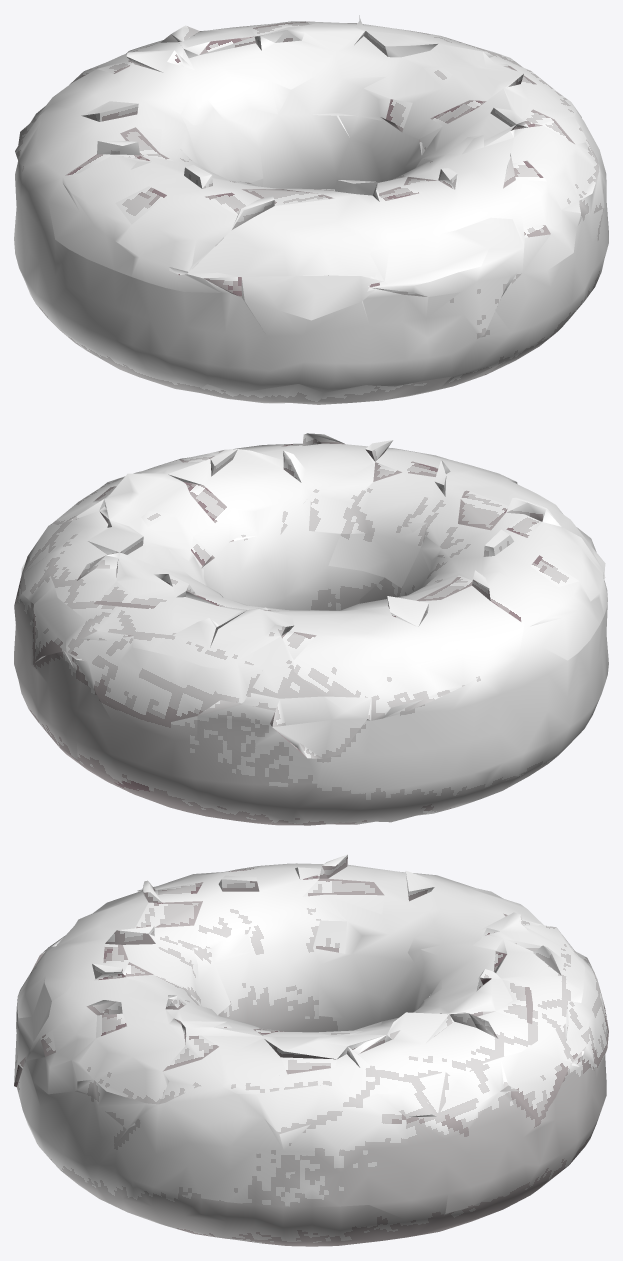
Rendered from donut_m.glb.
3 renders of one model, top to bottom at view 1: azimuth 30°, elevation 25°; view 2: azimuth 150°, elevation 25°; view 3: azimuth 270°, elevation 25°, orthographic.
Visible parts, largest first — view 1: mesh; view 2: mesh; view 3: mesh.
Part boxes in pixels (x1,y1,x2,y2): mesh: (14,15,608,404); mesh: (14,433,608,825); mesh: (14,854,608,1246).
Size of the model in its own units: 0.207 by 0.08 by 0.2073.
Materials: 1 (1 with a texture image).
